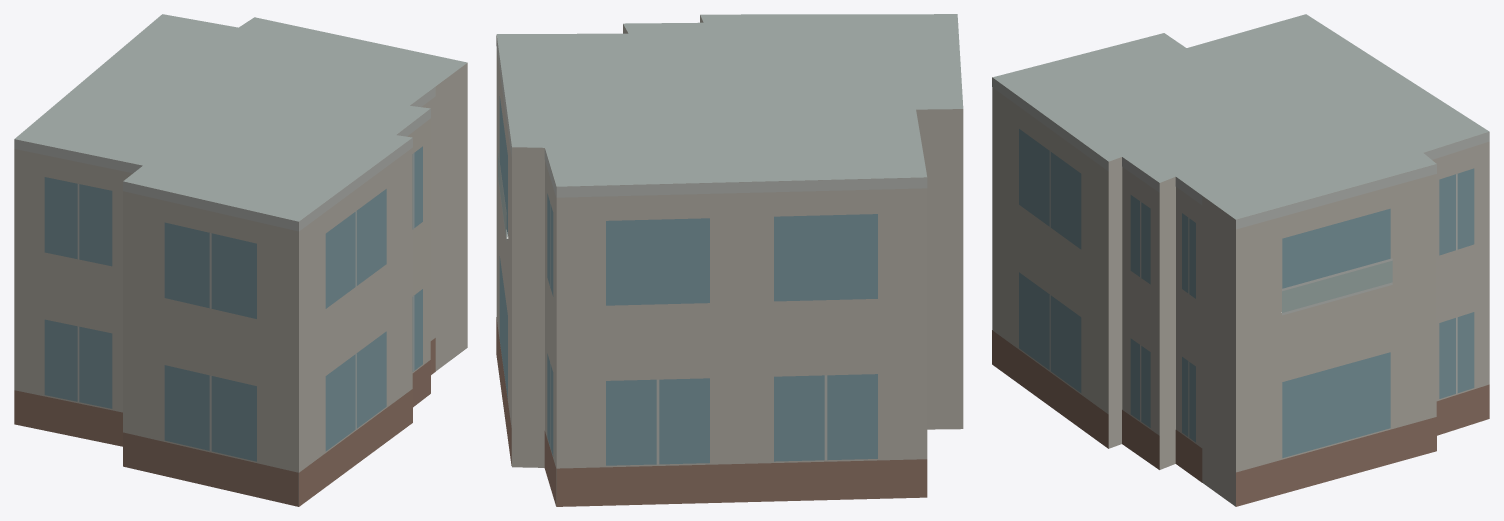
Rendered from survey-upis-32495095.glb.
The picture shows the model from 3 angles, left to right: view 1: azimuth 30°, elevation 25°; view 2: azimuth 150°, elevation 25°; view 3: azimuth 270°, elevation 25°; orthographic projection. The views are drawn at different scales.
Visible parts, largest first — view 1: survey-upis-32495095.tmp; view 2: survey-upis-32495095.tmp; view 3: survey-upis-32495095.tmp.
Part boxes in pixels (x1,y1,x2,y2): survey-upis-32495095.tmp: (14, 14, 467, 506); survey-upis-32495095.tmp: (496, 14, 963, 506); survey-upis-32495095.tmp: (992, 14, 1489, 506).
Bounding box in the file's own units: 10.92 × 7.1 × 11.15.
